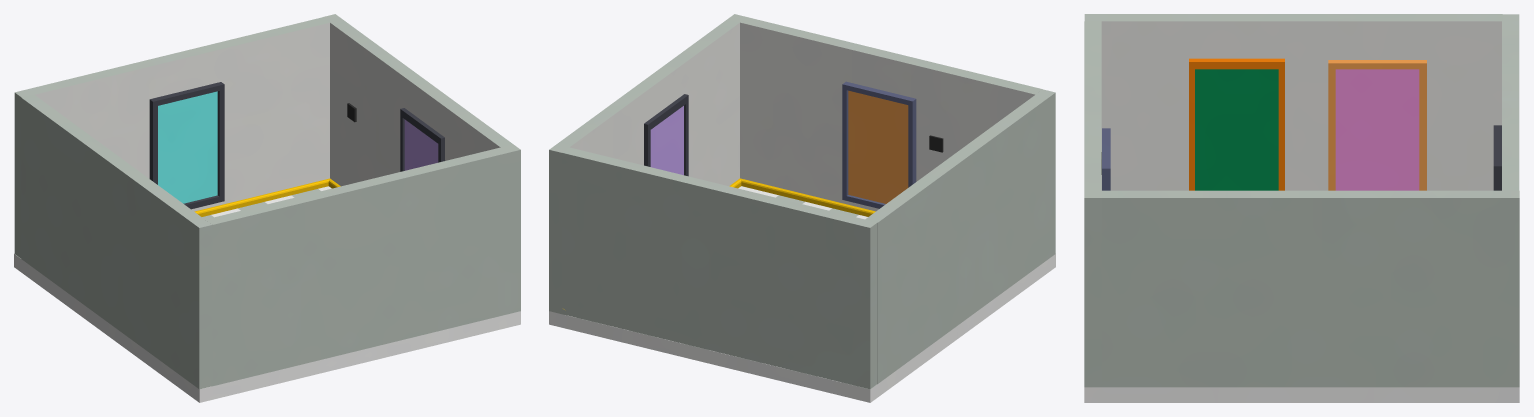
The model's file is Room.fbx.
3 views of the same model, side by side, from view 1: azimuth 30°, elevation 25°; view 2: azimuth 150°, elevation 25°; view 3: azimuth 270°, elevation 25° (orthographic). The views are drawn at different scales.
Parts seen in each view (by area): view 1: TestGallery; view 2: TestGallery; view 3: TestGallery.
Part boxes in pixels (x1,y1,x2,y2): TestGallery: [14, 14, 520, 402]; TestGallery: [549, 14, 1055, 402]; TestGallery: [1084, 14, 1519, 402].
Bounding box in the file's own units: 867 × 451 × 867.
